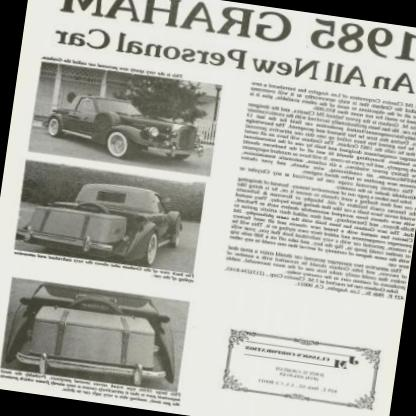car: (24, 74, 180, 165)
